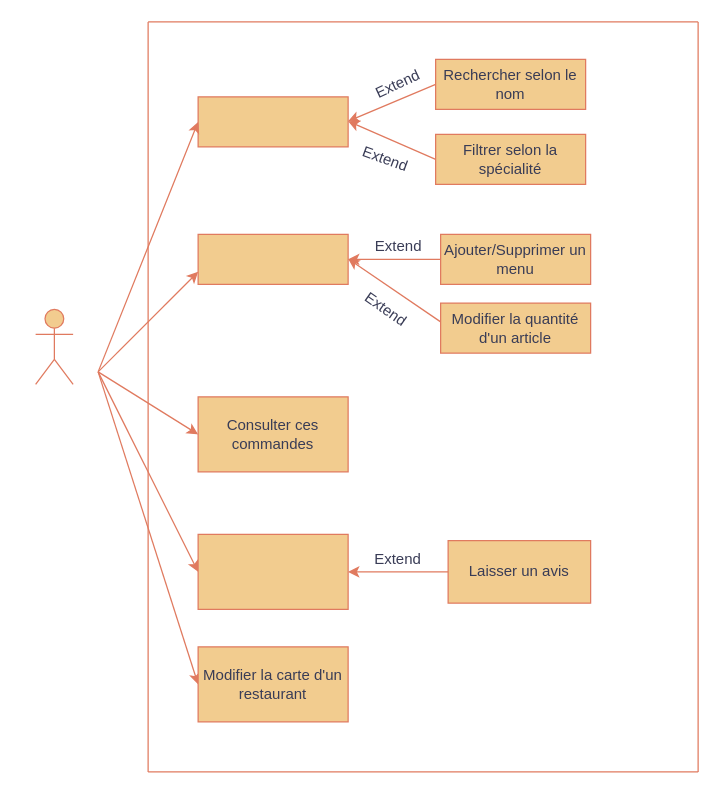
Image size: 721x795. Some labels were removed from this diagram. Each missing label, with the centre of its shape:
Gestion du panier: (x=272, y=258)
Rechercher un restaurant selon la localisation: (x=272, y=121)
Utilisateur: (x=53, y=346)
Valider sa commande: (x=272, y=571)
